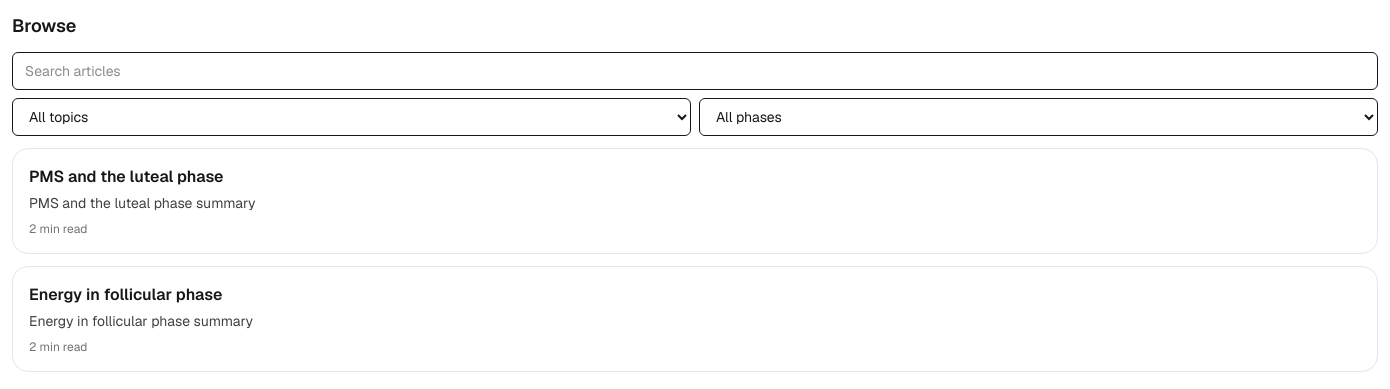
Test case: ContentLibrary › filters the browse list by phase
Select "luteal" in the dropdown named "phase" at x=1038, y=117, box [699,98,1378,136]
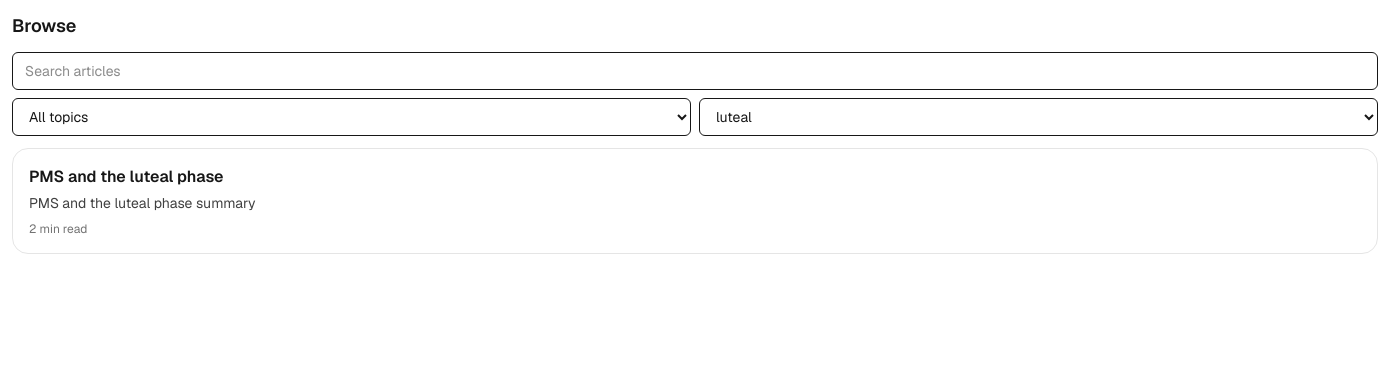
expect the heading "PMS and the luteal phase" is shown: met, box [29,166,224,187]
expect the link "Energy in follicular phase" is gone: met
